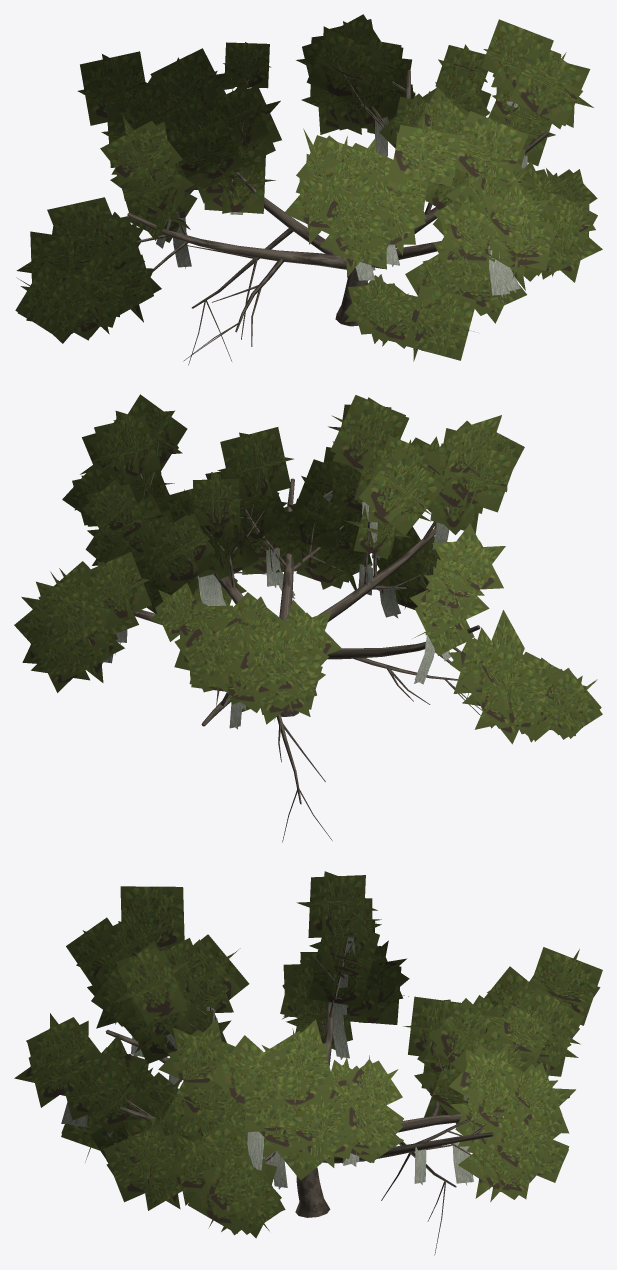
File: veg_live_oak_a_mobile.fbx
3 renders of one model, top to bottom at view 1: azimuth 30°, elevation 25°; view 2: azimuth 150°, elevation 25°; view 3: azimuth 270°, elevation 25°, orthographic.
Parts seen in each view (by area): view 1: veg_live_oak_a_mobile_LOD0; view 2: veg_live_oak_a_mobile_LOD0; view 3: veg_live_oak_a_mobile_LOD0.
Boxes of the visible parts, <box> form: veg_live_oak_a_mobile_LOD0: <box>15,14,602,365</box>; veg_live_oak_a_mobile_LOD0: <box>14,394,602,842</box>; veg_live_oak_a_mobile_LOD0: <box>14,871,602,1255</box>.
Size of what is drawn, in the model's own units: 27.13 by 15.96 by 24.86.
2 materials, 2 textured.
